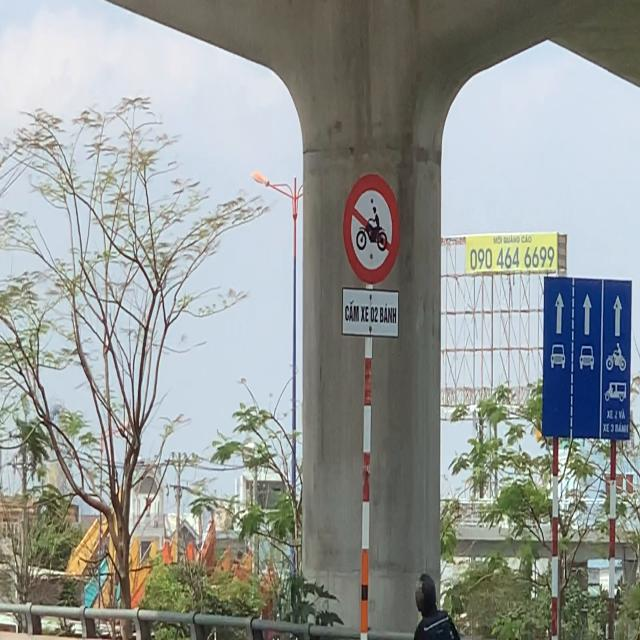Cam con lai: (341, 171, 402, 287)
